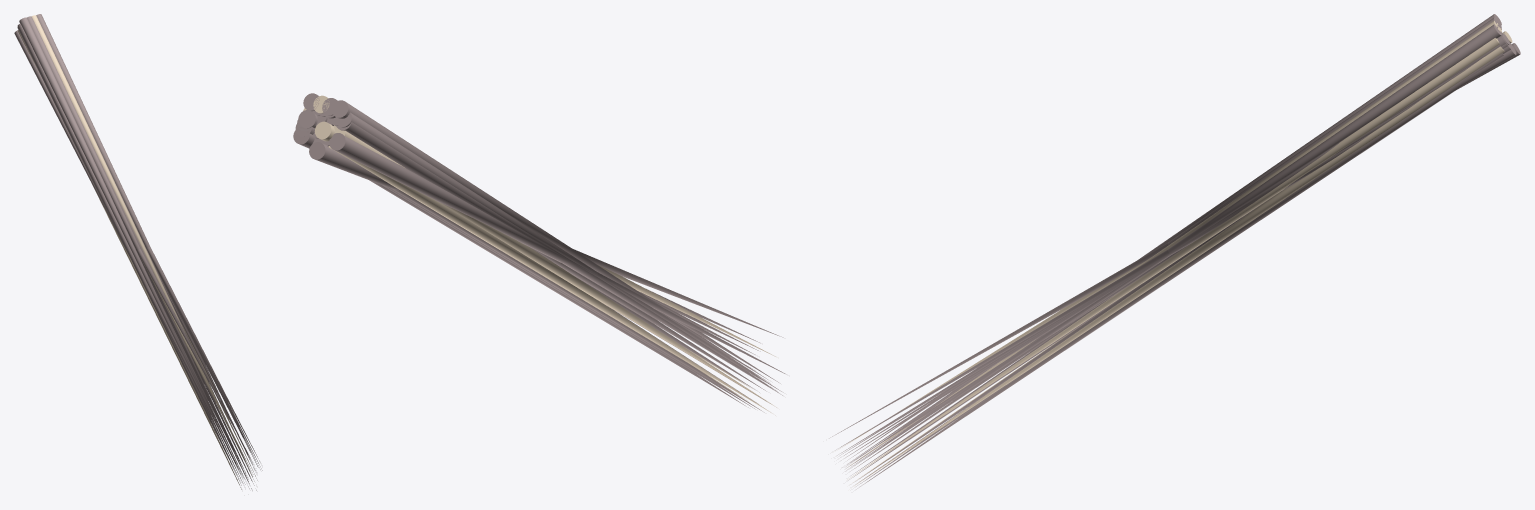
The model's file is Fur.fbx.
The picture shows the model from 3 angles, left to right: view 1: azimuth 30°, elevation 25°; view 2: azimuth 150°, elevation 25°; view 3: azimuth 270°, elevation 25°; orthographic projection. The views are drawn at different scales.
Parts seen in each view (by area): view 1: pCone13, pCone14, pCone16, pCone15, pCone6, pCone26, pCone23, pCone27, pCone5, pCone12, pCone29, pCone22 (+7 smaller); view 2: pCone26, pCone20, pCone5, pCone13, pCone6, pCone12, pCone27, pCone19, pCone17, pCone1, pCone29, pCone18 (+1 smaller); view 3: pCone16, pCone3, pCone4, pCone17, pCone23, pCone15, pCone13, pCone27, pCone14, pCone28, pCone11, pCone24 (+3 smaller).
Part boxes in pixels (box(x1,y1,x2,y2)): pCone13: box(19, 17, 241, 474); pCone14: box(27, 16, 245, 472); pCone16: box(36, 14, 255, 470); pCone15: box(31, 15, 250, 471); pCone6: box(17, 23, 238, 477); pCone26: box(14, 30, 243, 477); pCone23: box(145, 246, 260, 462); pCone27: box(137, 249, 252, 461); pCone5: box(17, 27, 241, 485); pCone12: box(18, 30, 239, 484); pCone29: box(139, 255, 253, 474); pCone22: box(147, 251, 252, 463); pCone26: box(329, 133, 786, 374); pCone20: box(328, 146, 775, 415); pCone5: box(336, 122, 782, 395); pCone13: box(332, 100, 780, 383); pCone6: box(335, 112, 783, 392); pCone12: box(333, 125, 776, 407); pCone27: box(309, 142, 783, 337); pCone19: box(316, 138, 764, 412); pCone17: box(369, 180, 748, 407); pCone1: box(326, 118, 766, 391); pCone29: box(314, 121, 775, 356); pCone18: box(312, 138, 755, 409); pCone16: box(850, 24, 1501, 468); pCone3: box(853, 46, 1504, 486); pCone4: box(847, 38, 1499, 479); pCone17: box(856, 53, 1503, 489); pCone23: box(835, 44, 1516, 450); pCone15: box(848, 20, 1501, 466); pCone13: box(847, 14, 1501, 460); pCone27: box(829, 43, 1520, 438); pCone14: box(848, 17, 1501, 463); pCone28: box(841, 35, 1508, 460); pCone11: box(855, 194, 1276, 481); pCone24: box(837, 43, 1513, 455).
Bounding box in the file's own units: 0.7239 × 9.05 × 12.16.
